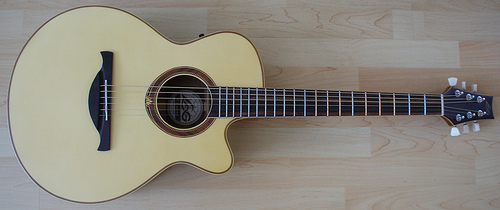guitar: (7, 4, 496, 204)
